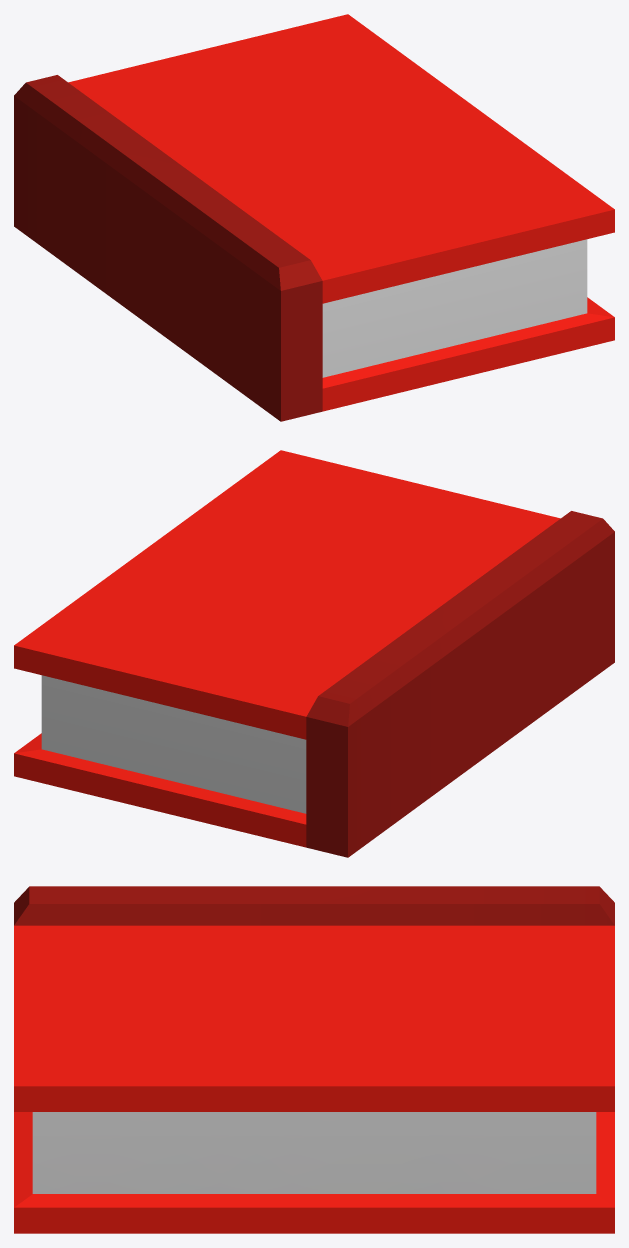
The model's file is LivroVerm.fbx.
3 renders of one model, top to bottom at view 1: azimuth 30°, elevation 25°; view 2: azimuth 150°, elevation 25°; view 3: azimuth 270°, elevation 25°, orthographic. The views are drawn at different scales.
Visible parts, largest first — view 1: LivroVerm; view 2: LivroVerm; view 3: LivroVerm.
Part boxes in pixels (x1,y1,x2,y2): LivroVerm: (14, 14, 614, 421); LivroVerm: (14, 450, 614, 857); LivroVerm: (14, 886, 614, 1233).
Size of the model in its own units: 49.87 by 21.07 by 69.
